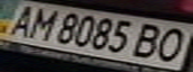0: (72, 12, 96, 48)
5: (109, 17, 142, 55)
8: (48, 10, 81, 46), (90, 16, 118, 53)
A: (0, 2, 42, 37)
B: (127, 20, 175, 60)
M: (21, 7, 60, 42)
O: (145, 25, 193, 63)
